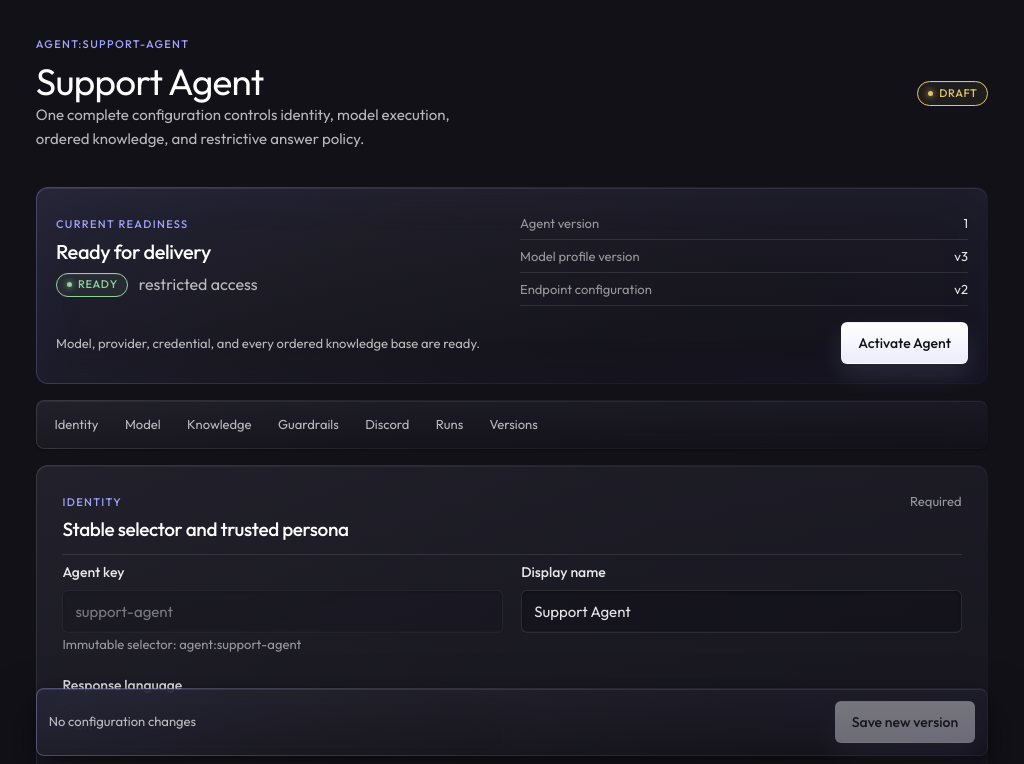
Test case: activation race surfaces the exact candidate readiness snapshot and leaves the Agent draft
The width and height of the screenshot is (1024, 764).
Click the button "Activate Agent" at (905, 343), box [841, 322, 968, 364]
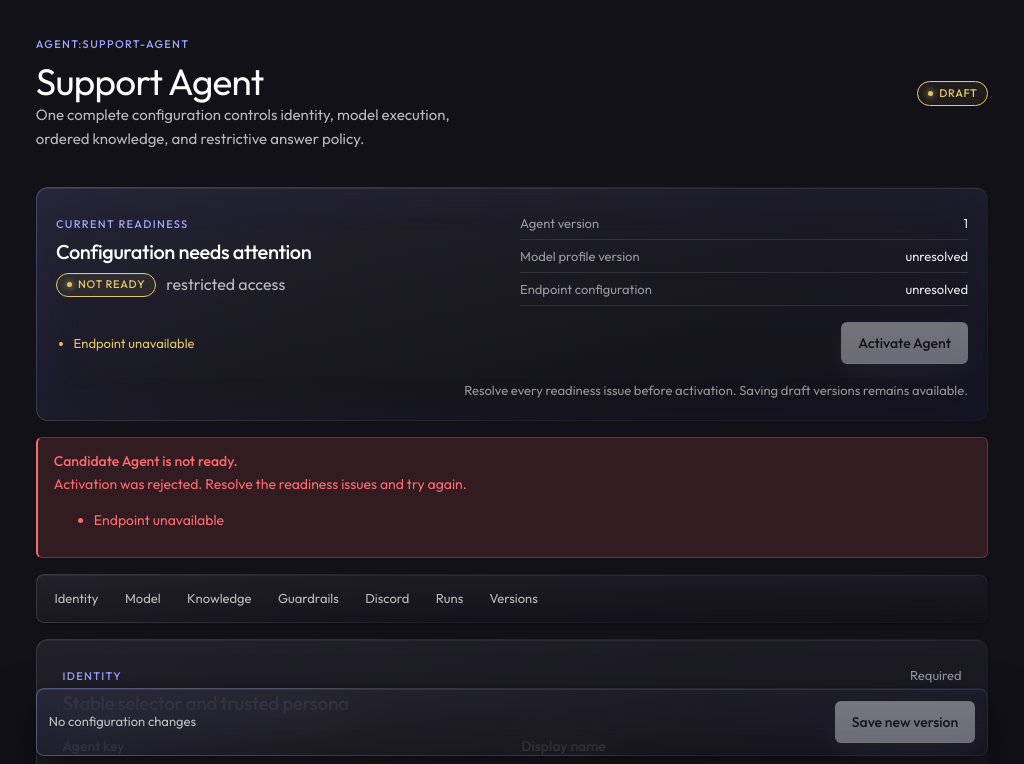
Expected: the text "Candidate Agent is not ready." is shown, [54, 452, 238, 470]
Expected: the list item "Endpoint unavailable" below "Candidate Agent is not ready." is shown, [94, 511, 224, 529]
Expected: the button "Activate Agent" is disabled, [841, 322, 968, 364]
